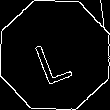L_N: (31, 26, 79, 84)
